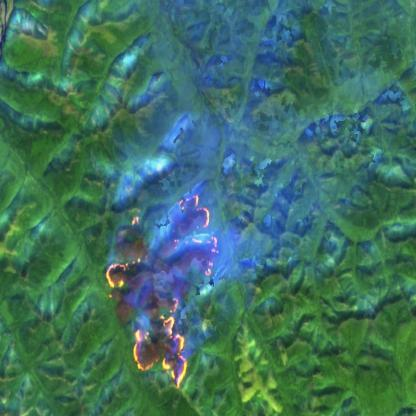fire: (100, 190, 222, 392)
